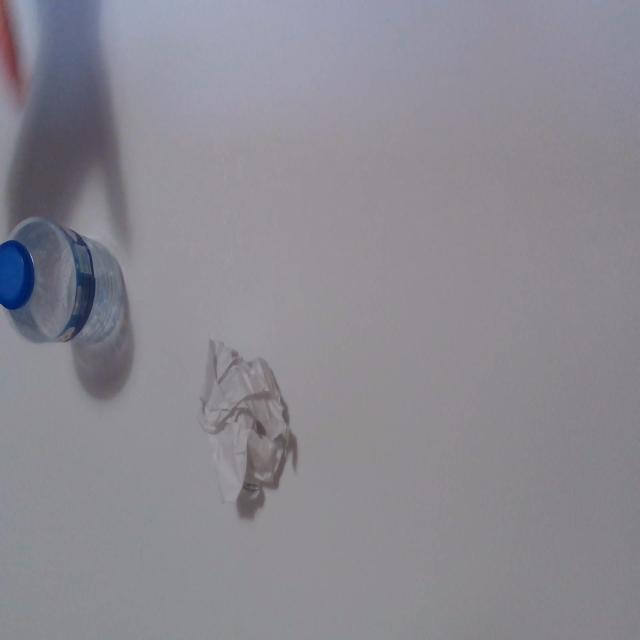Paper: (192, 332, 300, 522)
Plastic: (1, 206, 130, 351)
